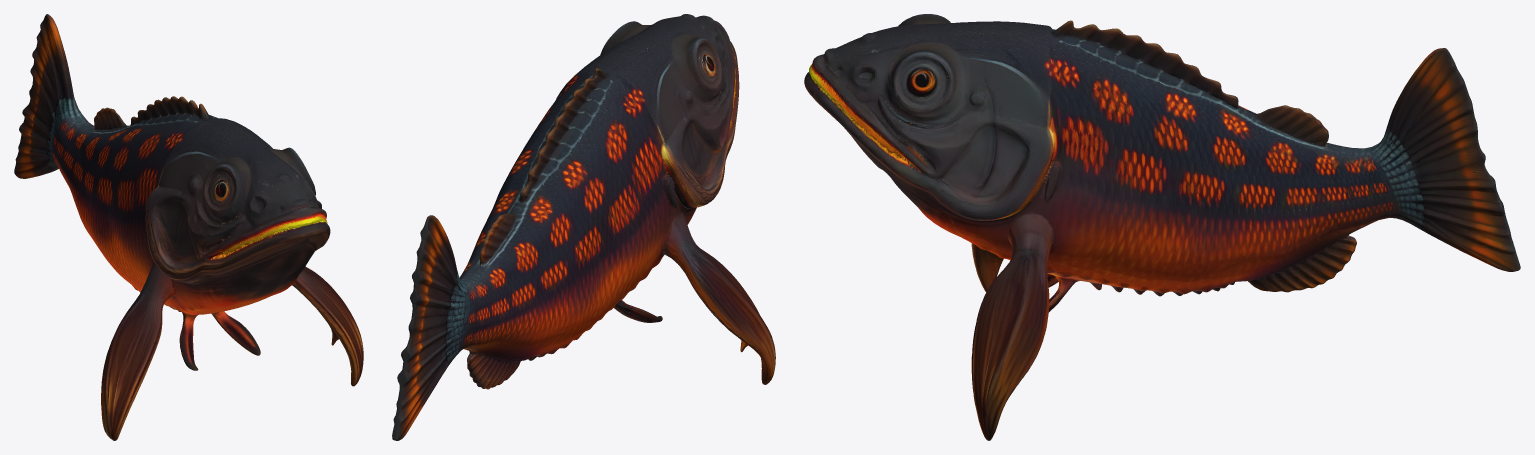
Rendered from fish_ember_snapper.glb.
3 views of the same model, side by side, from view 1: azimuth 30°, elevation 25°; view 2: azimuth 150°, elevation 25°; view 3: azimuth 270°, elevation 25° (orthographic). The views are drawn at different scales.
Size of the model in its own units: 0.9628 by 1.02 by 1.9.
Materials: 1 (1 with a texture image).
